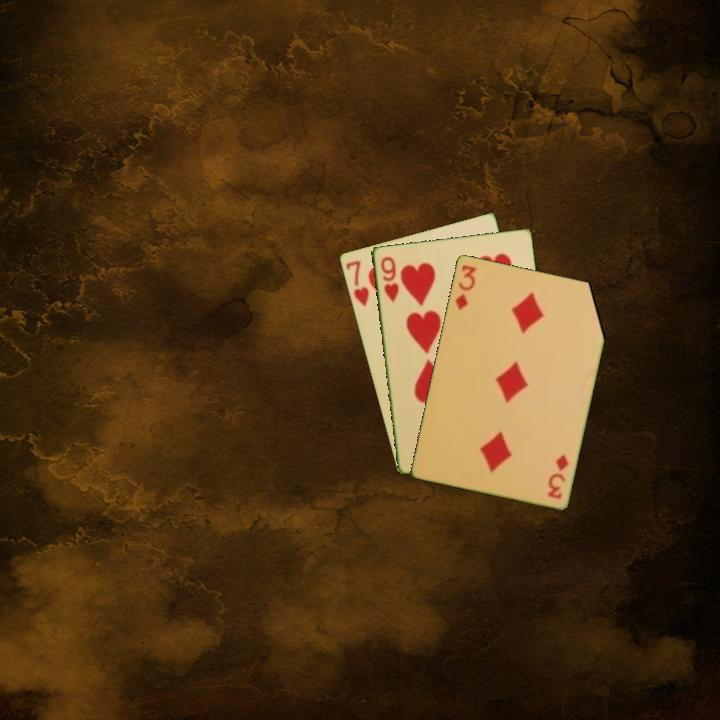3d: (451, 261, 479, 313), (544, 450, 571, 502)
7h: (342, 257, 372, 309)
9h: (377, 253, 402, 305)
